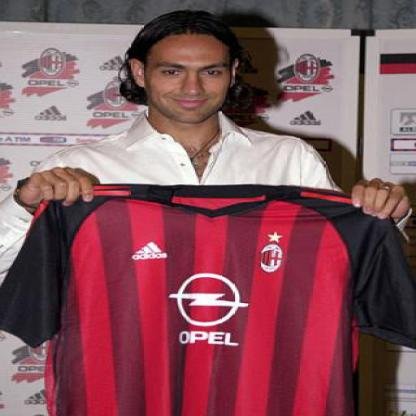face: (146, 19, 237, 126)
